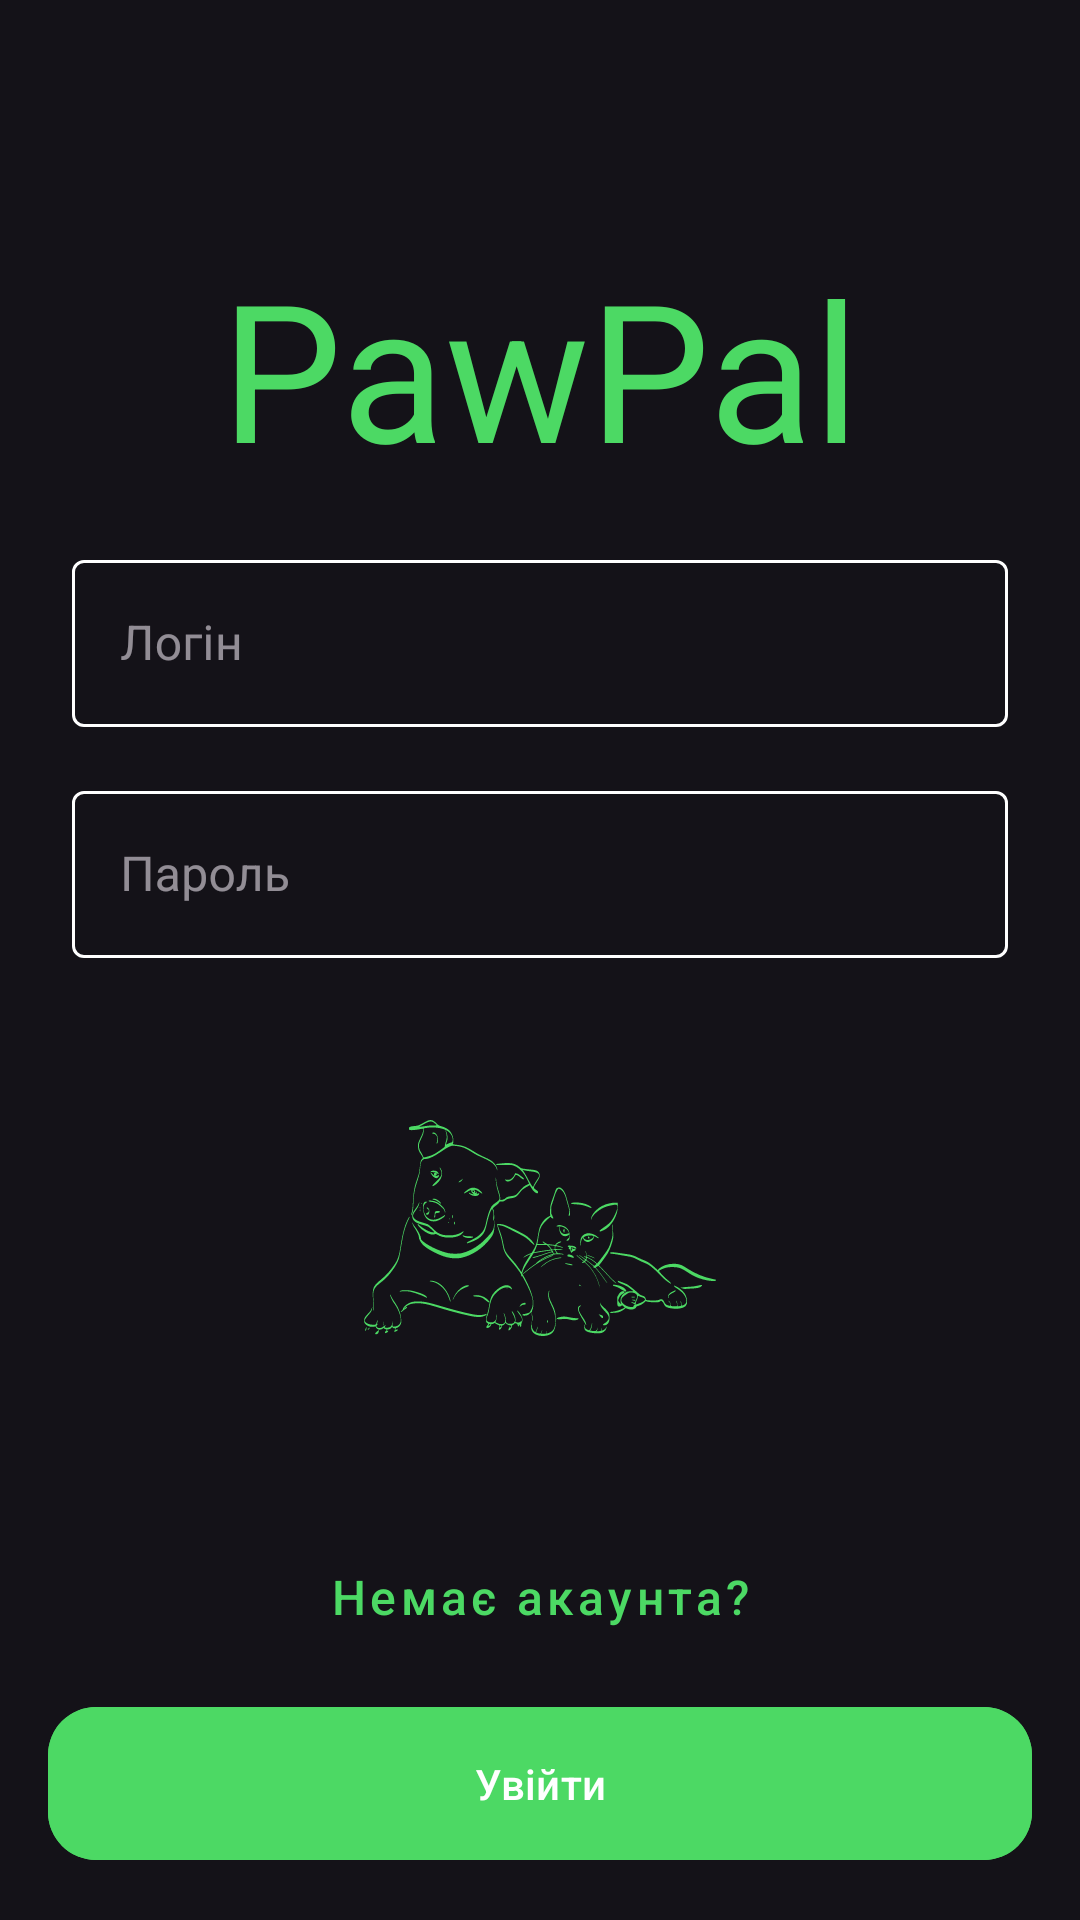

Screen size 1080px x 1920px. Icon name, then its center in pixels as [x,y]:
cat dog: [540,1228]
